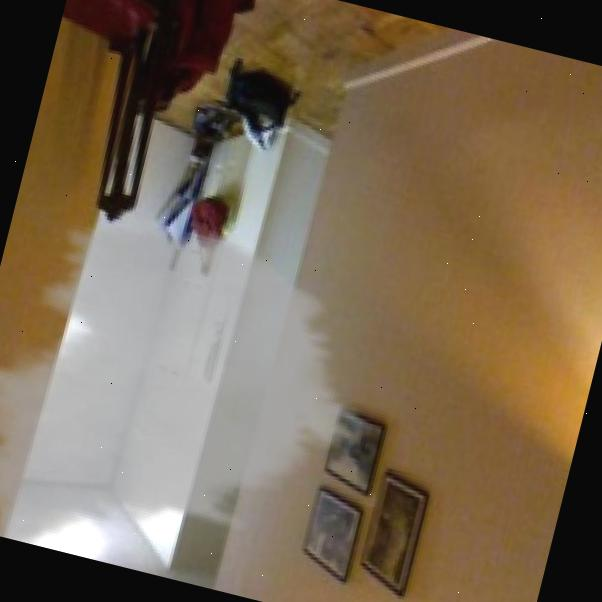smoke: (0, 181, 401, 602)
